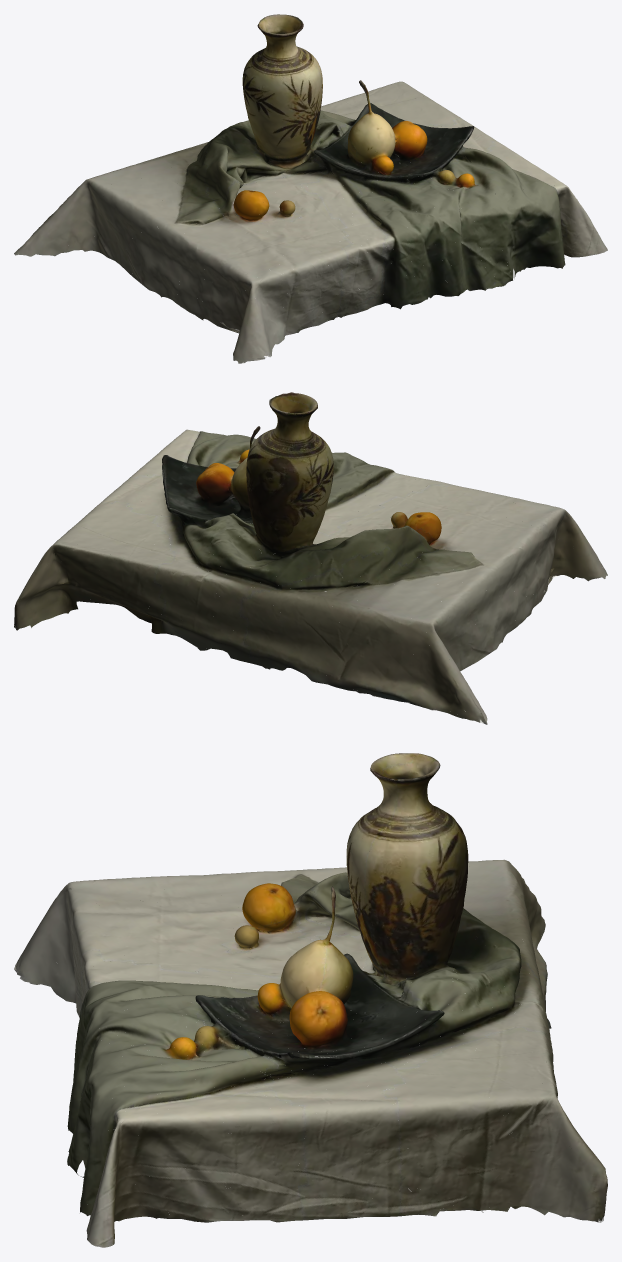
Rendered from 静物系列_花瓶水果02_opt.glb.
3 renders of one model, top to bottom at view 1: azimuth 30°, elevation 25°; view 2: azimuth 150°, elevation 25°; view 3: azimuth 270°, elevation 25°, orthographic. The views are drawn at different scales.
Parts seen in each view (by area): view 1: defaultMat, defaultMat_1; view 2: defaultMat, defaultMat_1; view 3: defaultMat, defaultMat_1.
Boxes of the visible parts, x1,y1,x2,y2 form: defaultMat: (14, 14, 607, 363); defaultMat_1: (17, 16, 587, 363); defaultMat: (14, 392, 607, 724); defaultMat_1: (20, 395, 603, 723); defaultMat: (14, 753, 607, 1247); defaultMat_1: (14, 753, 602, 1245).
Size of the model in its own units: 1.34 by 0.6 by 1.01.
Materials: 1 (1 with a texture image).
